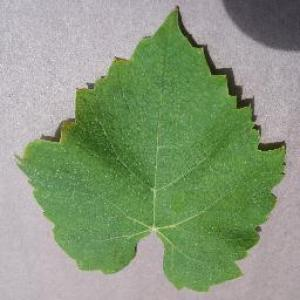Folha: (13, 3, 287, 292)
